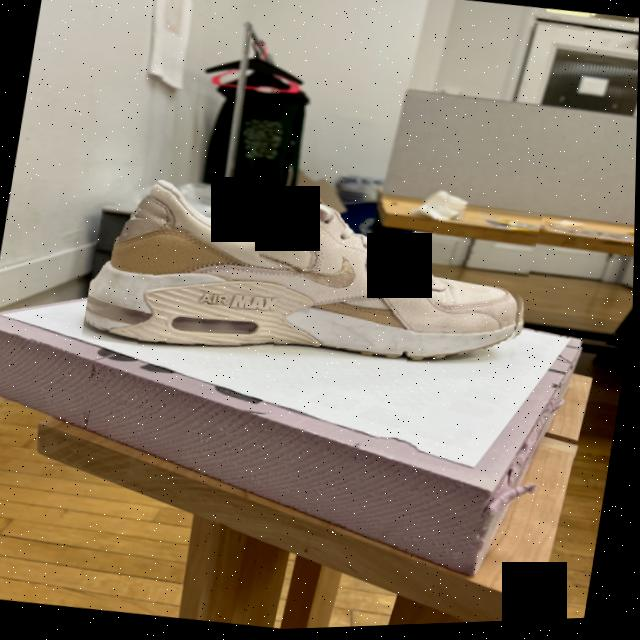shoe: (81, 155, 546, 400)
